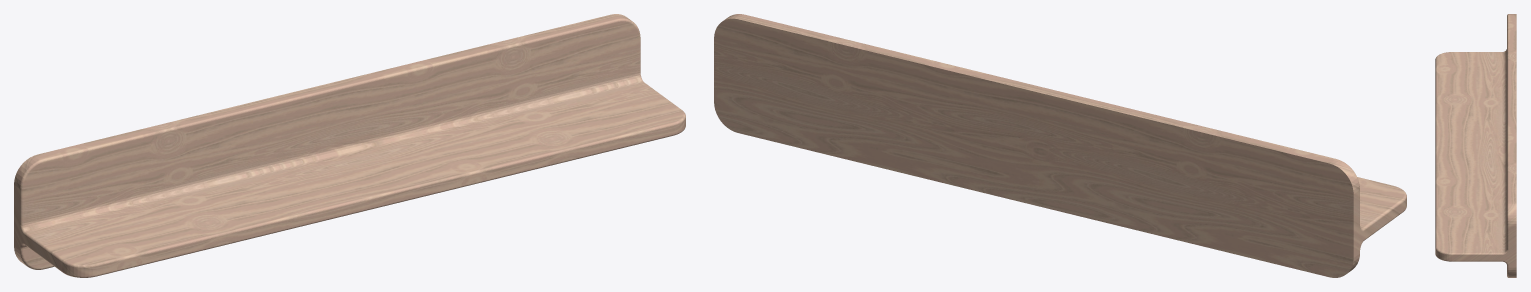
The model's file is ShelfDesk.glb.
The picture shows the model from 3 angles, left to right: view 1: azimuth 30°, elevation 25°; view 2: azimuth 150°, elevation 25°; view 3: azimuth 270°, elevation 25°; orthographic projection. The views are drawn at different scales.
Visible parts, largest first — view 1: ShelfDesk; view 2: ShelfDesk; view 3: ShelfDesk.
Part boxes in pixels (x1=…): ShelfDesk: x1=14, y1=14, x2=685, y2=277; ShelfDesk: x1=714, y1=14, x2=1406, y2=277; ShelfDesk: x1=1435, y1=14, x2=1516, y2=277.
Bounding box in the file's own units: 12 × 2.04 × 2.04.
1 material, 1 textured.
